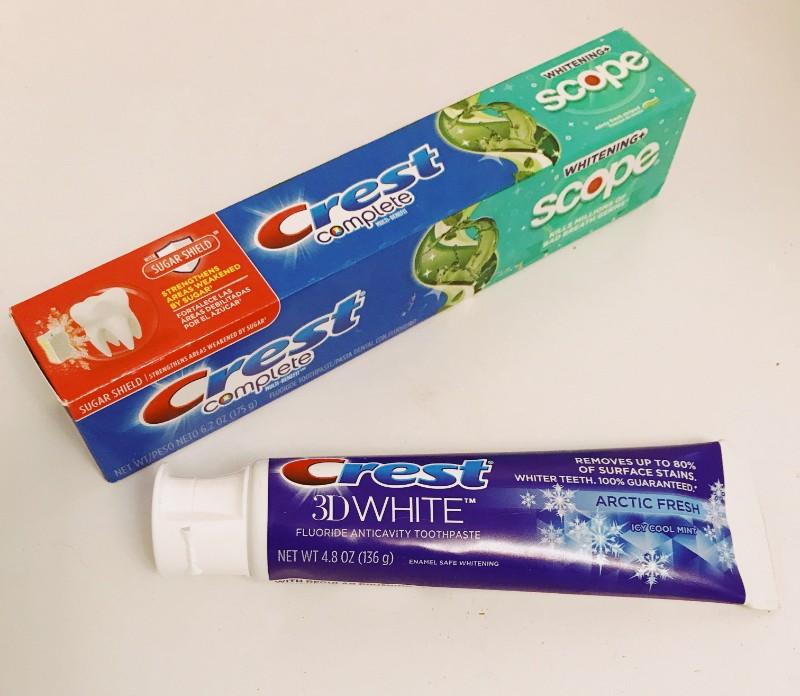toothpaste: (16, 25, 755, 463), (135, 443, 766, 628)
